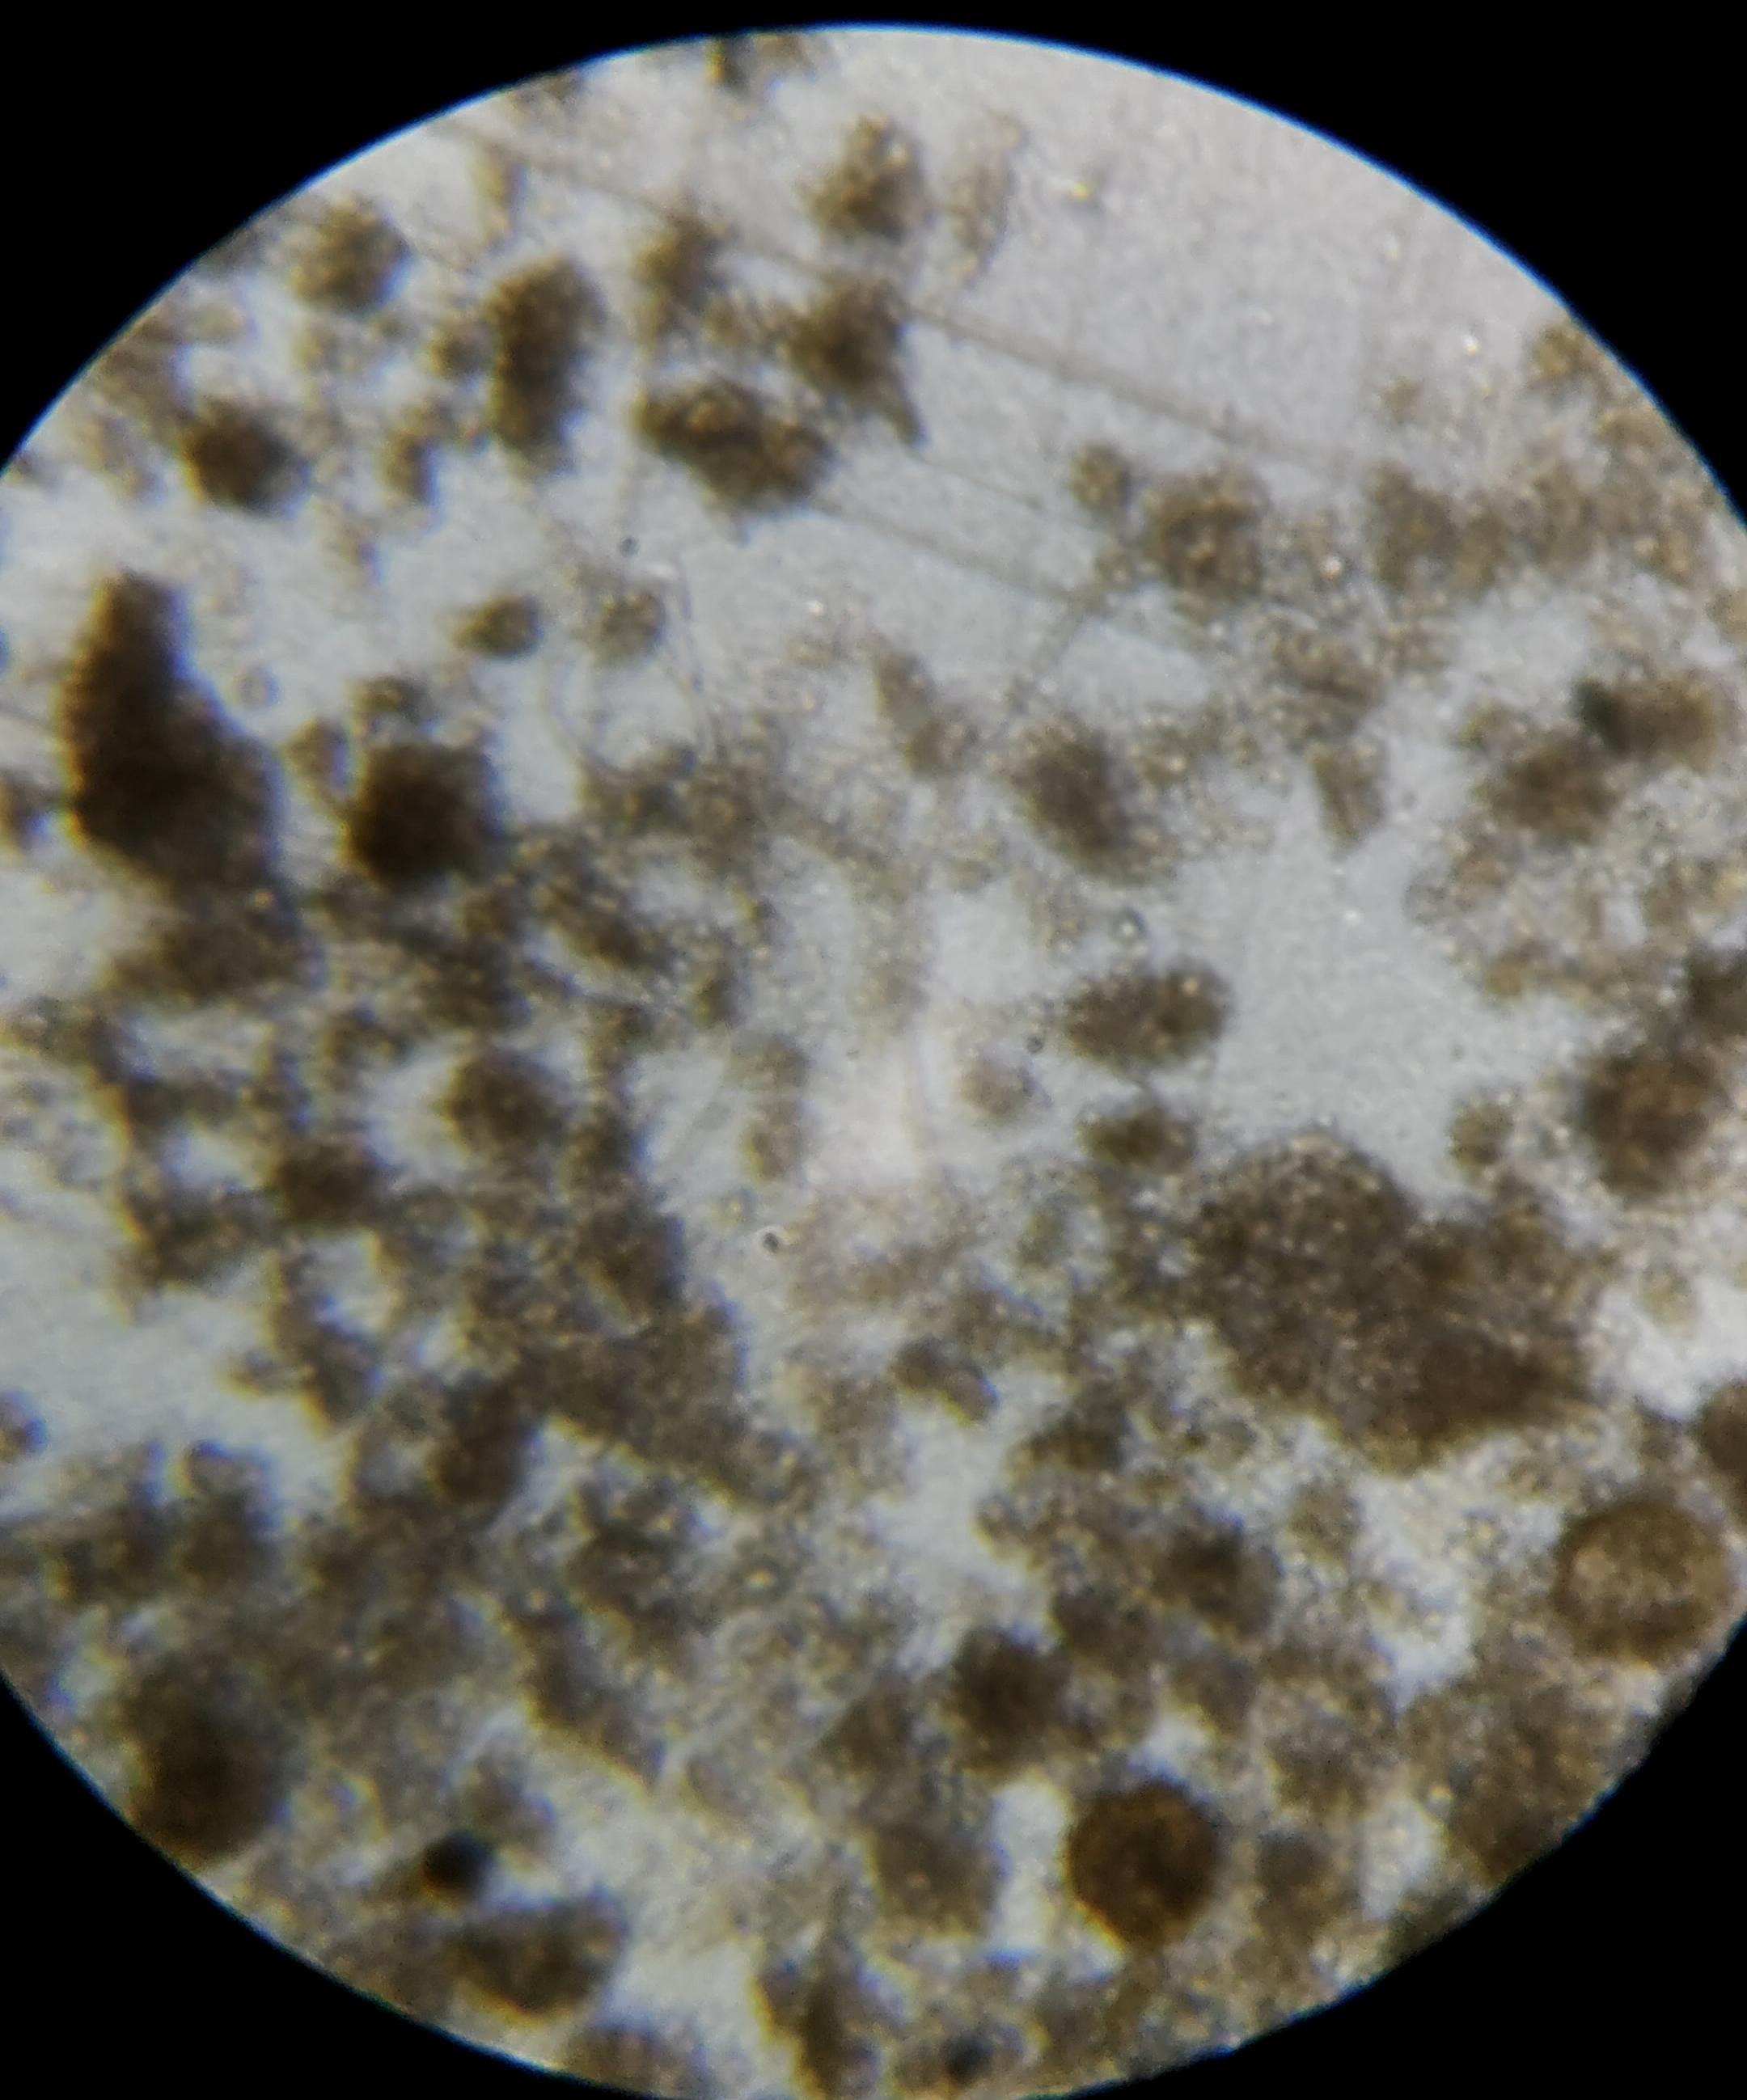Arcella: (1559, 1502, 1724, 1662), (1073, 1790, 1211, 1931)
